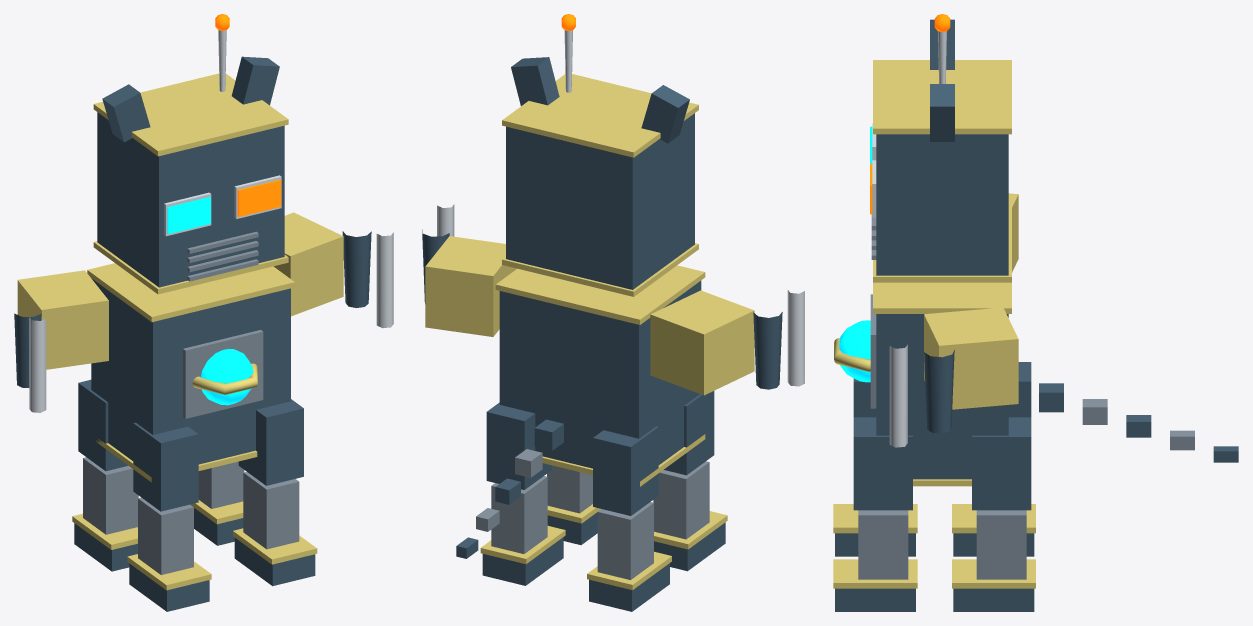
File: cat-robot-supreme.glb
The picture shows the model from 3 angles, left to right: view 1: azimuth 30°, elevation 25°; view 2: azimuth 150°, elevation 25°; view 3: azimuth 270°, elevation 25°; orthographic projection. The views are drawn at different scales.
Parts seen in each view (by area): view 1: head, torso, head-rim, prim--1, torso-rim, thigh--0.420.38, prim-1, thigh-0.420.38, shin-0.420.38, shin--0.420.38, shin--0.42-0.38, chest-pl (+22 smaller); view 2: head, torso, prim--1, head-rim, prim-1, torso-rim, thigh--0.42-0.38, shin--0.42-0.38, shin--0.420.38, thigh-0.42-0.38, shin-0.42-0.38, thigh--0.420.38 (+20 smaller); view 3: head, head-rim, torso, prim-1, thigh-0.42-0.38, thigh-0.420.38, torso-rim, shin-0.420.38, shin-0.42-0.38, cannon-1, foot-0.42-0.38, foot-0.420.38 (+19 smaller).
Part boxes in pixels (x1=…): head: x1=97, y1=112, x2=284, y2=287; torso: x1=91, y1=278, x2=290, y2=464; head-rim: x1=93, y1=73, x2=288, y2=156; prim--1: x1=17, y1=270, x2=108, y2=369; torso-rim: x1=87, y1=263, x2=294, y2=322; thigh--0.420.38: x1=133, y1=422, x2=198, y2=511; prim-1: x1=274, y1=212, x2=343, y2=316; thigh-0.420.38: x1=238, y1=399, x2=303, y2=485; shin-0.420.38: x1=243, y1=472, x2=299, y2=549; shin--0.420.38: x1=138, y1=497, x2=193, y2=574; shin--0.42-0.38: x1=83, y1=457, x2=138, y2=534; chest-pl: x1=183, y1=330, x2=263, y2=418; head: x1=506, y1=113, x2=694, y2=289; torso: x1=499, y1=280, x2=701, y2=468; prim--1: x1=650, y1=290, x2=754, y2=395; head-rim: x1=502, y1=74, x2=698, y2=157; prim-1: x1=425, y1=236, x2=516, y2=336; torso-rim: x1=495, y1=265, x2=705, y2=324; thigh--0.42-0.38: x1=593, y1=426, x2=658, y2=515; shin--0.42-0.38: x1=597, y1=502, x2=653, y2=579; shin--0.420.38: x1=653, y1=461, x2=709, y2=539; thigh-0.42-0.38: x1=486, y1=402, x2=552, y2=489; shin-0.42-0.38: x1=491, y1=476, x2=547, y2=553; thigh--0.420.38: x1=664, y1=391, x2=714, y2=475; head: x1=876, y1=134, x2=1008, y2=275; head-rim: x1=873, y1=60, x2=1011, y2=134; torso: x1=876, y1=314, x2=1008, y2=479; prim-1: x1=924, y1=307, x2=1018, y2=409; thigh-0.42-0.38: x1=972, y1=417, x2=1031, y2=510; thigh-0.420.38: x1=853, y1=417, x2=912, y2=510; torso-rim: x1=873, y1=282, x2=1011, y2=313; shin-0.420.38: x1=858, y1=510, x2=908, y2=579; shin-0.42-0.38: x1=976, y1=510, x2=1026, y2=579; cannon-1: x1=924, y1=350, x2=954, y2=433; foot-0.42-0.38: x1=953, y1=588, x2=1034, y2=611; foot-0.420.38: x1=835, y1=588, x2=915, y2=611.
Size of the model in its own units: 2.88 by 4.07 by 2.6.
